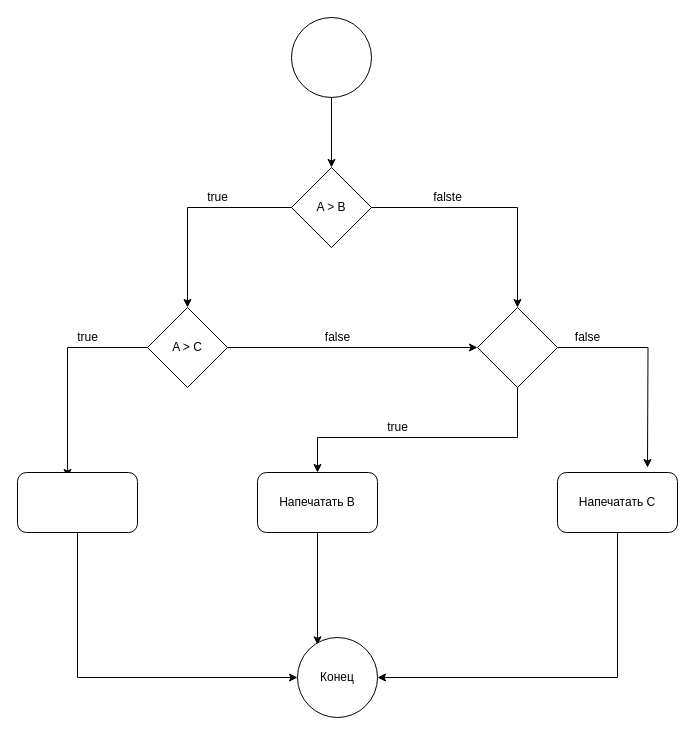
This 695x735 diagram has some shape labels left out. The shapes that lost their labels are listed below. From the top down, each one's box as (x1, y1, x2, y2) in pixels, then its label:
(290, 16, 372, 98): Начало
(476, 306, 558, 388): B > C
(16, 472, 138, 532): Напечатать A
